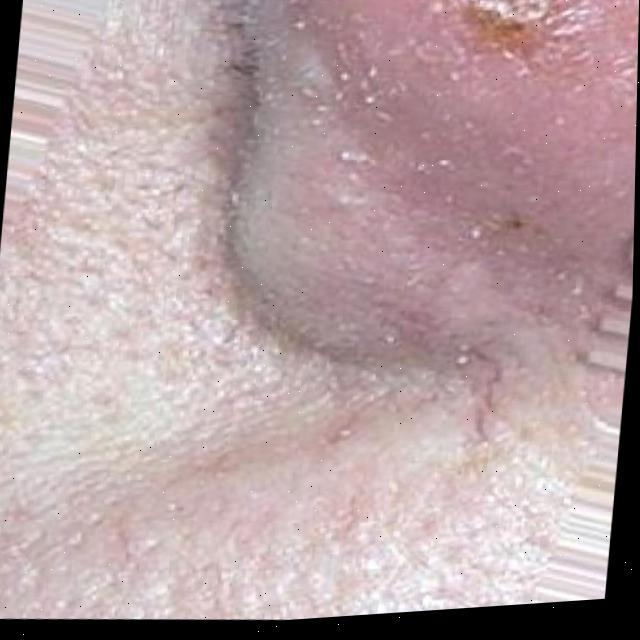Rosacea: (483, 0, 557, 67)
